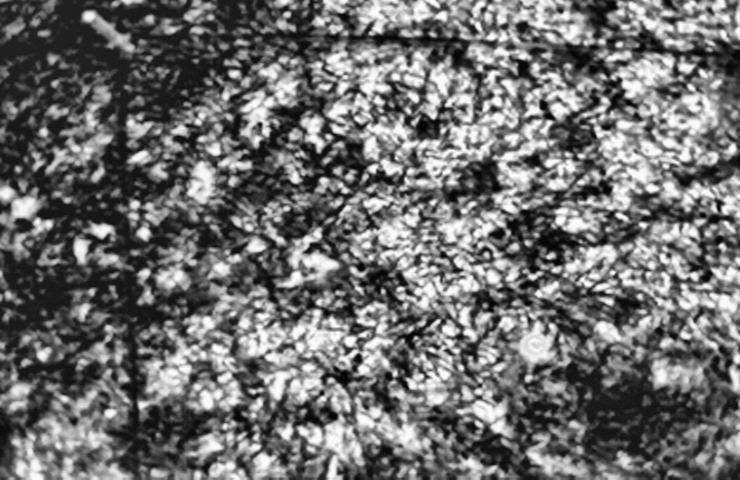landmines: (517, 330, 556, 366)
